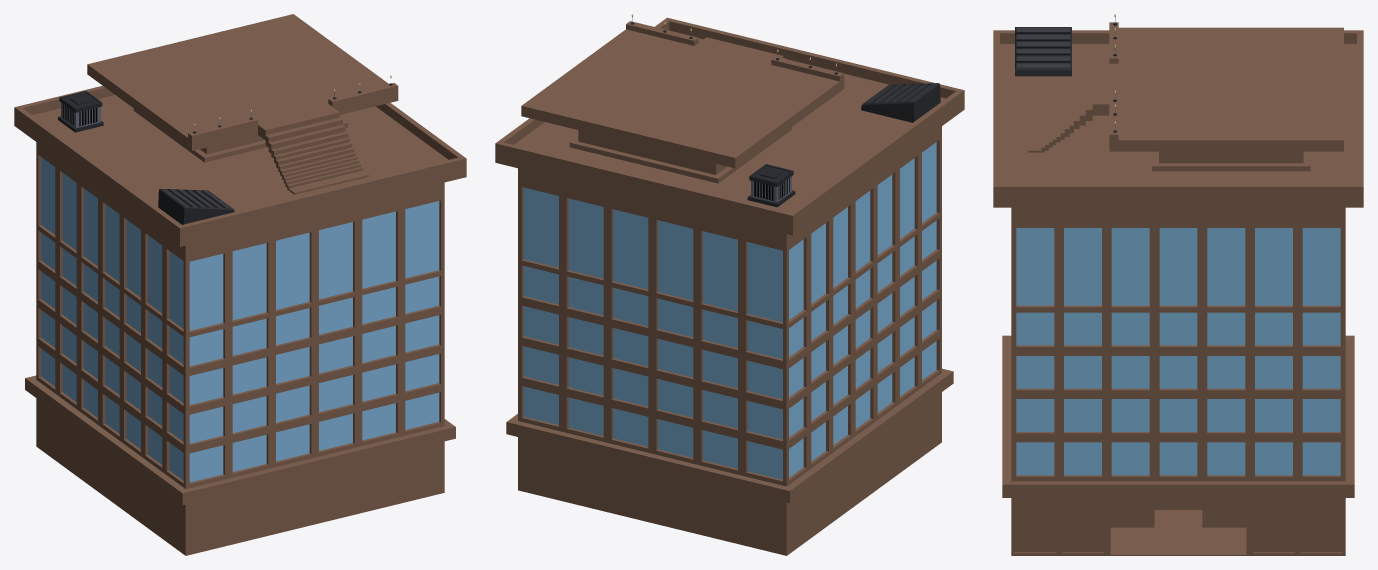
File: EdificioGrande.fbx
The picture shows the model from 3 angles, left to right: view 1: azimuth 30°, elevation 25°; view 2: azimuth 150°, elevation 25°; view 3: azimuth 270°, elevation 25°; orthographic projection. The views are drawn at different scales.
Visible parts, largest first — view 1: EdificioGrande.011; view 2: EdificioGrande.011; view 3: EdificioGrande.011.
Part boxes in pixels (box(x1,y1,x2,y2)): EdificioGrande.011: box(14, 14, 466, 555); EdificioGrande.011: box(495, 14, 964, 555); EdificioGrande.011: box(993, 14, 1363, 555).
Bounding box in the file's own units: 8.05 × 10.34 × 8.05.
